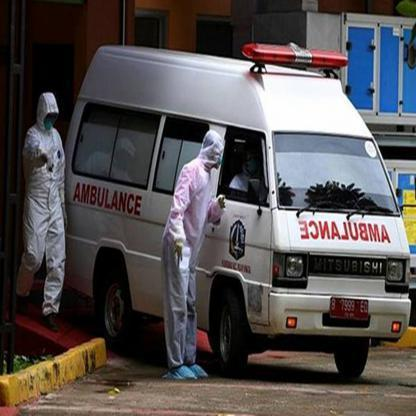Ambulance - v1 Ambulance last generate: (56, 28, 414, 371)
